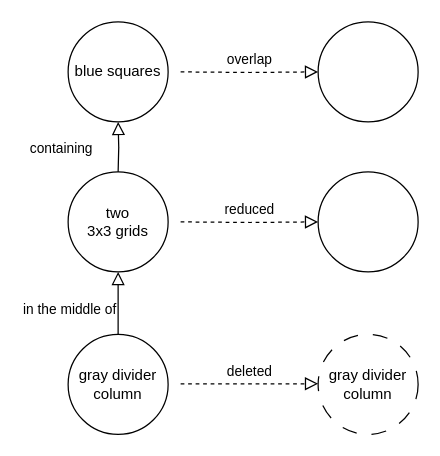
The diagram is 440 pixels wide and 456 high, and some of its shapes have lost their labels. The centre of each missing label's shape, as x and y in pixels:
"one 3x3 grid" belongs at [367,221].
"red squares" belongs at [367,71].
